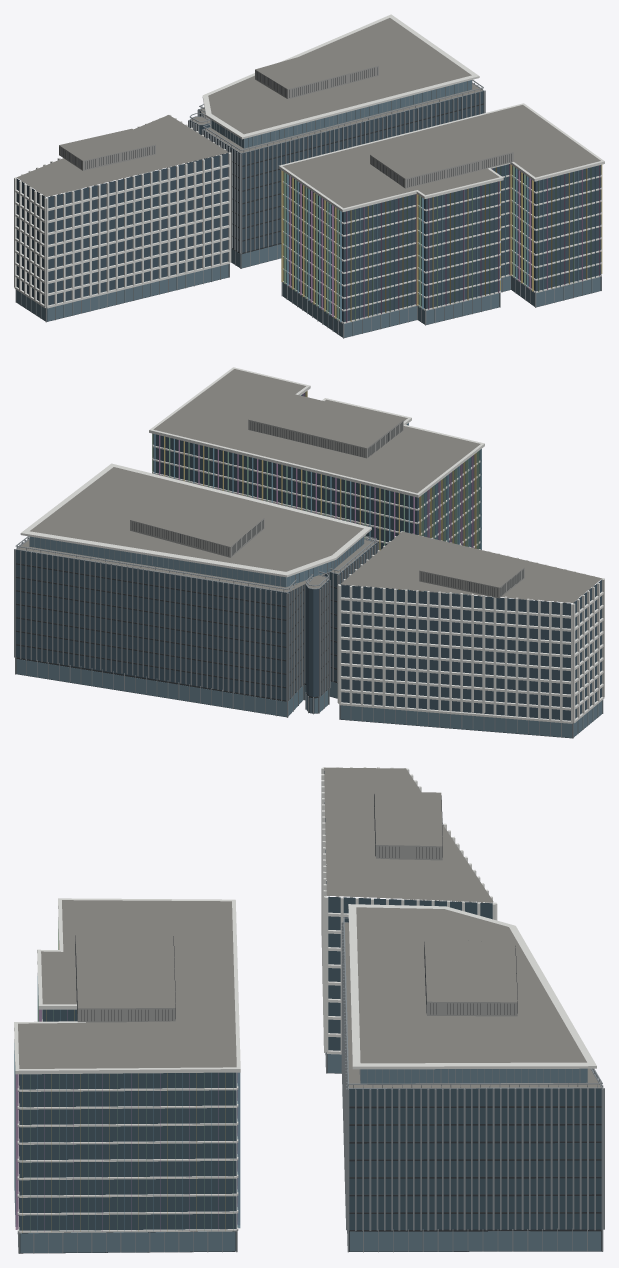
The model's file is kingdom_street_offices.glb.
3 renders of one model, top to bottom at view 1: azimuth 30°, elevation 25°; view 2: azimuth 150°, elevation 25°; view 3: azimuth 270°, elevation 25°, orthographic. The views are drawn at different scales.
Size of the model in its own units: 152 by 47.68 by 121.
